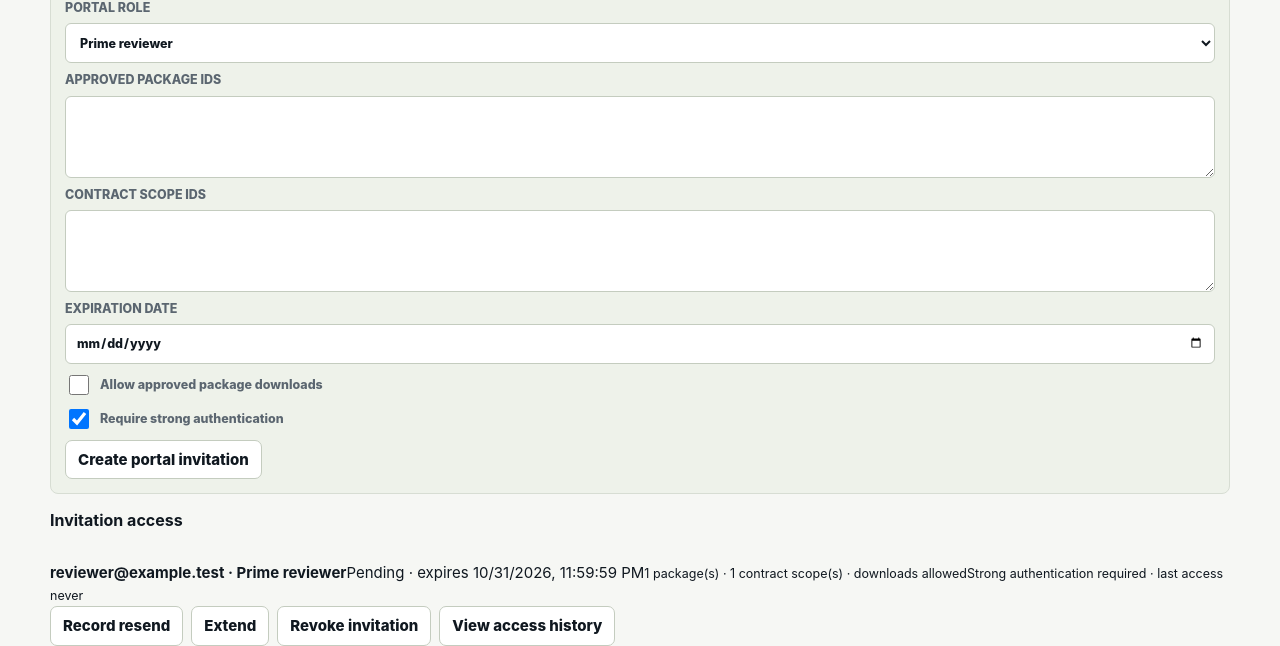
Test case: ExternalPortalInvitationPanel › requires a revocation reason and removes invitation actions after revocation
This screenshot has width=1280, height=646.
(page scrolled)
Click the button "Revoke invitation".
click(354, 626)  # box [277,606,431,645]
(page scrolled)
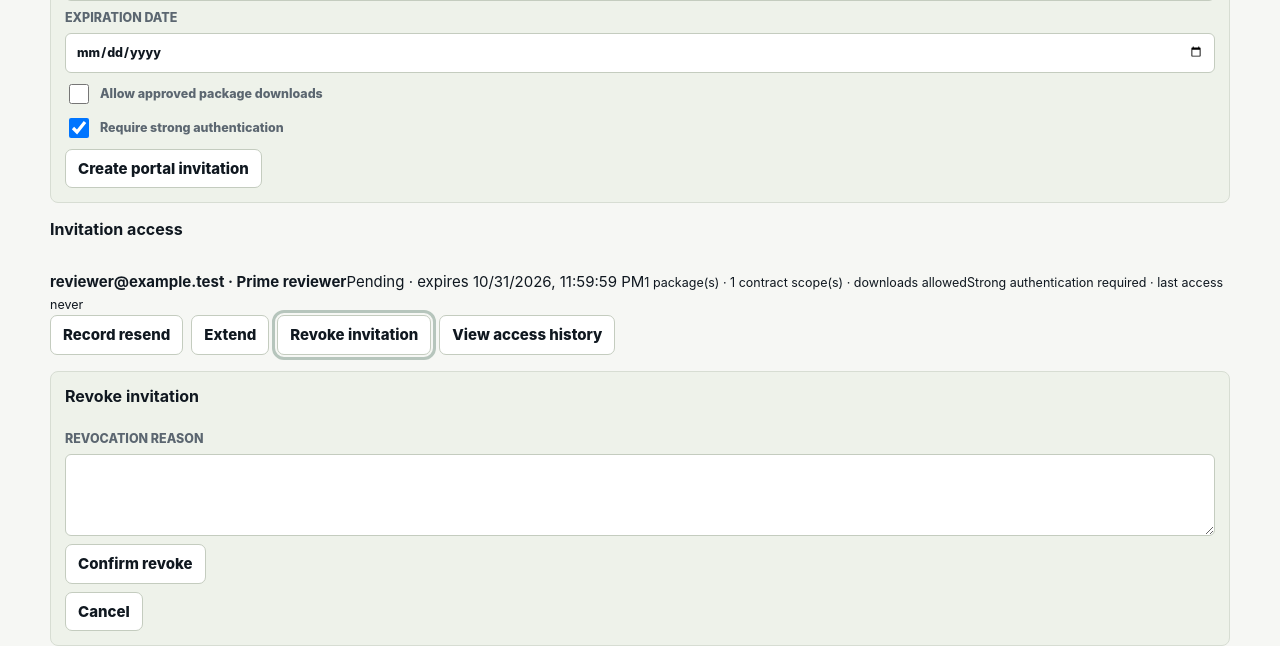
Type "Review completed." into the text box labelled "Revocation reason".
click(640, 495); type("Review completed.")  # box [65,454,1215,536]
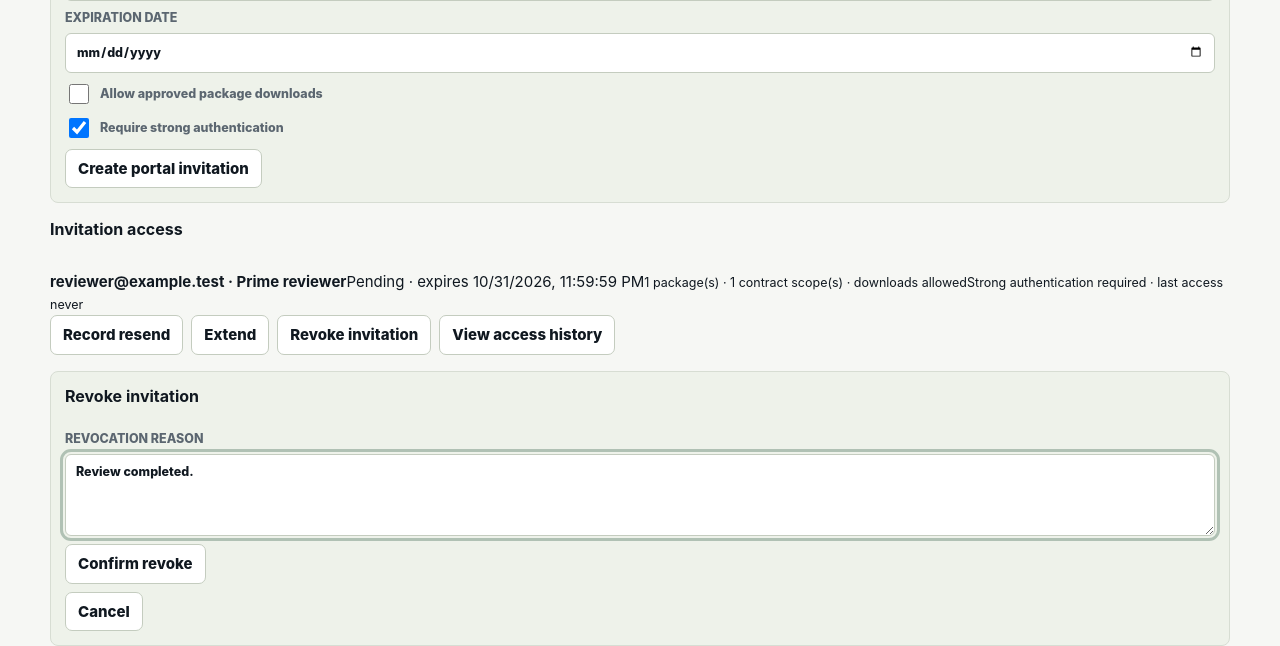
Click the button "Confirm revoke".
click(135, 564)  # box [65,544,206,584]
(page scrolled)
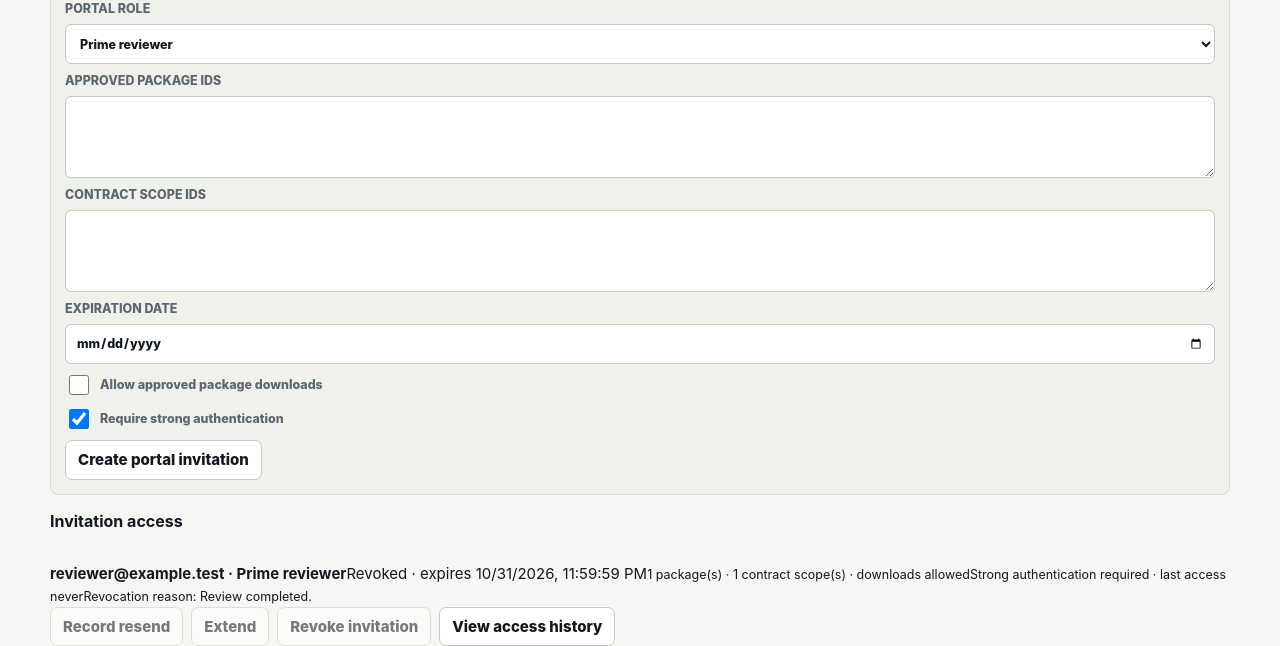
Now the text "Revocation reason: Review completed." is shown, box [83,589,312,604]
Now the button "Record resend" is disabled, box [50,607,183,645]
